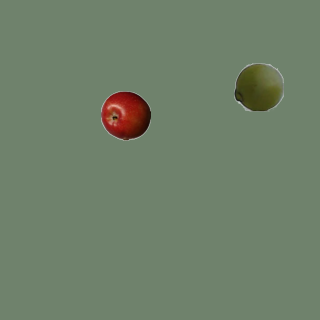Apple Braeburn: (100, 90, 150, 140)
Grape White 4: (233, 61, 283, 111)
